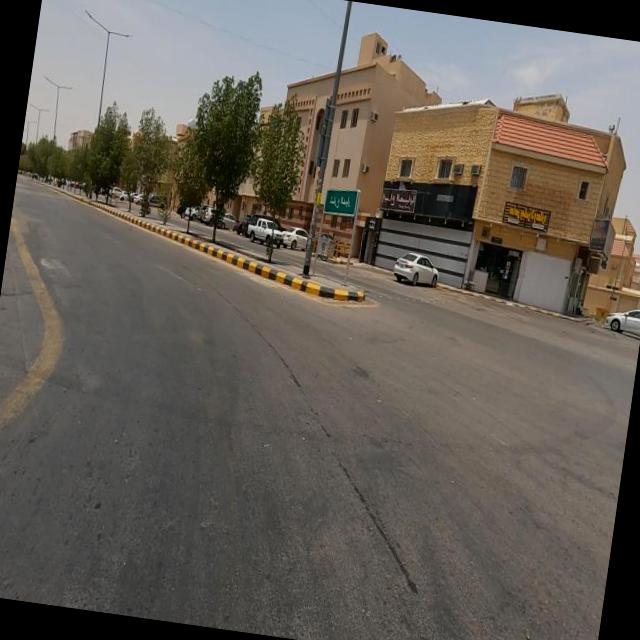debris: (570, 200, 640, 276)
